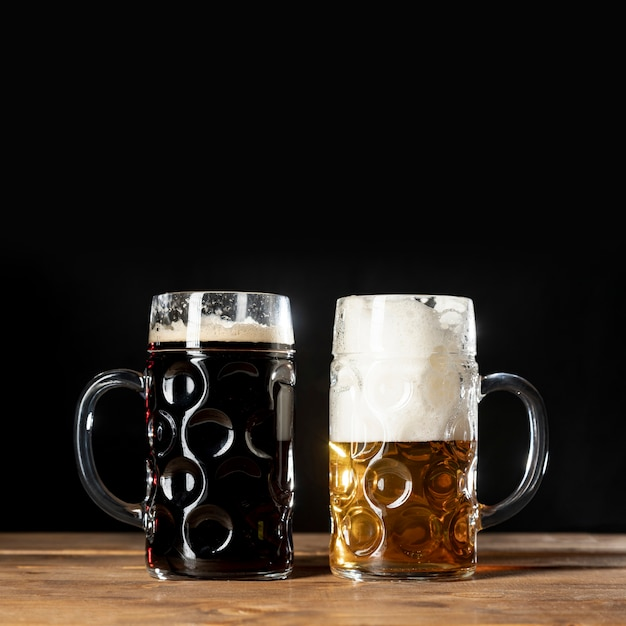alcohol: (77, 289, 298, 582), (332, 289, 552, 582)
